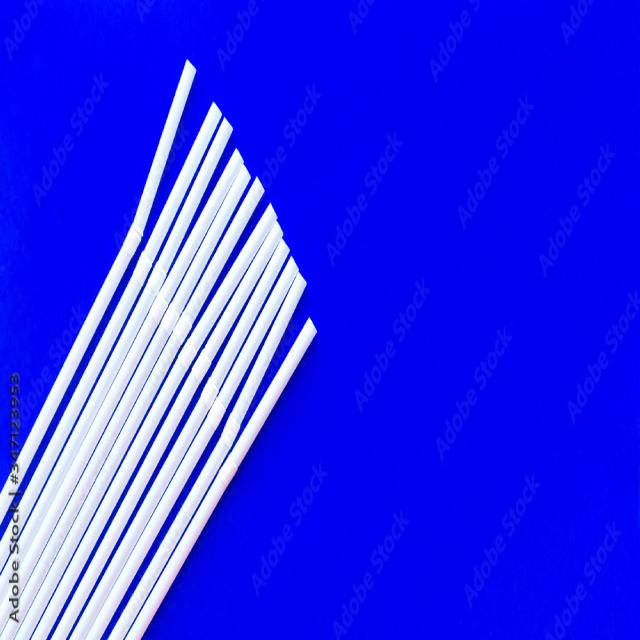plastic: (219, 309, 336, 524)
